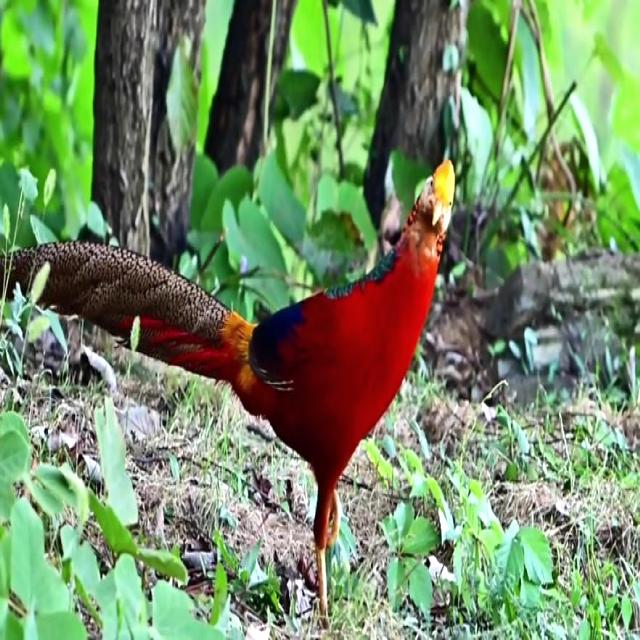Chrysolophus pictus feather: (0, 242, 253, 383)
